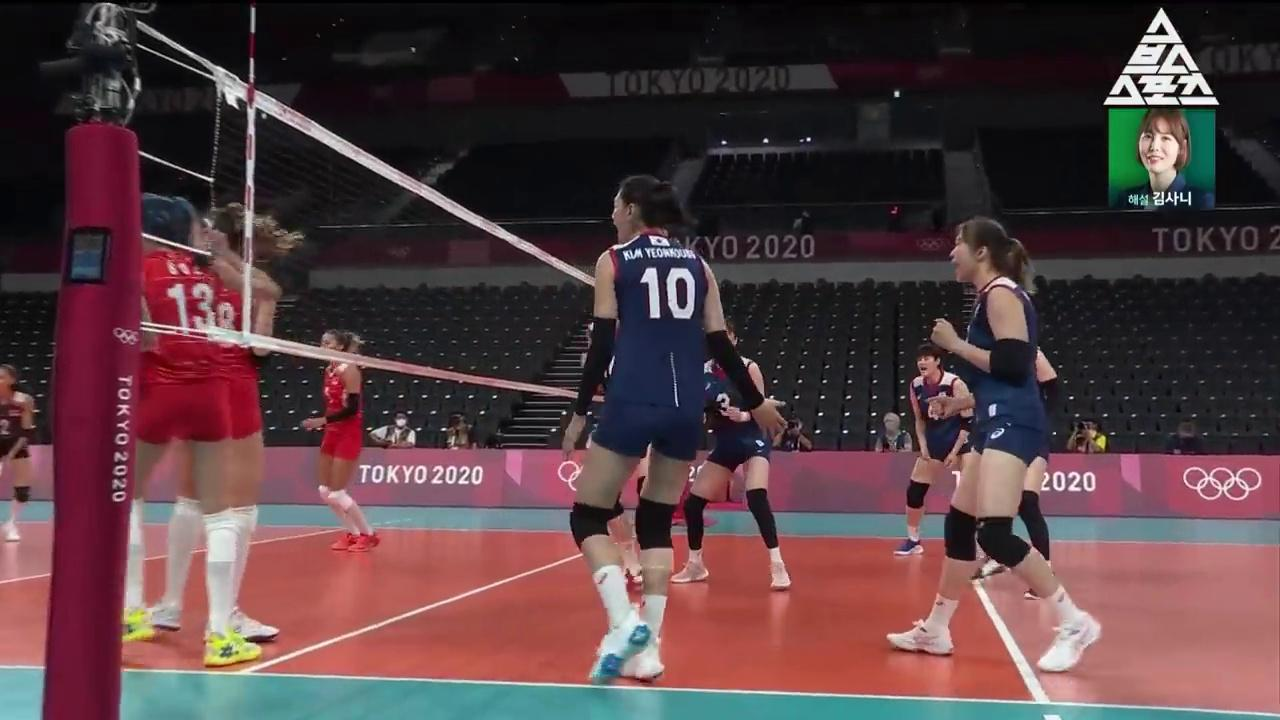player: (563, 176, 788, 683), (887, 219, 1100, 671), (123, 196, 281, 665), (144, 204, 302, 641), (672, 319, 792, 588), (893, 345, 997, 557), (303, 331, 380, 552), (0, 365, 35, 542)
